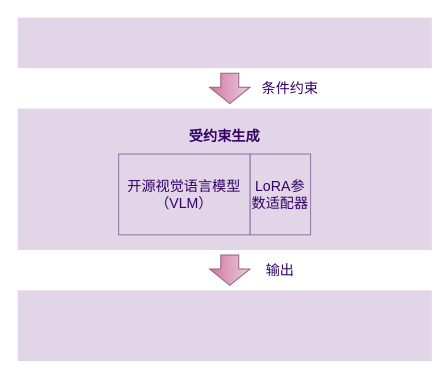
This 448x378 diagram has some shape labels left out. The shapes that lost their labels are listed below. From the top down, each one's box as (x1, y1, x2, y2) in pixels, then its label:
(17, 17, 431, 68): 输入：联合证据链（视觉证据ID、知识条目ID）
(17, 290, 431, 361): 1. 结构化JSON 2. 临床短叙述
